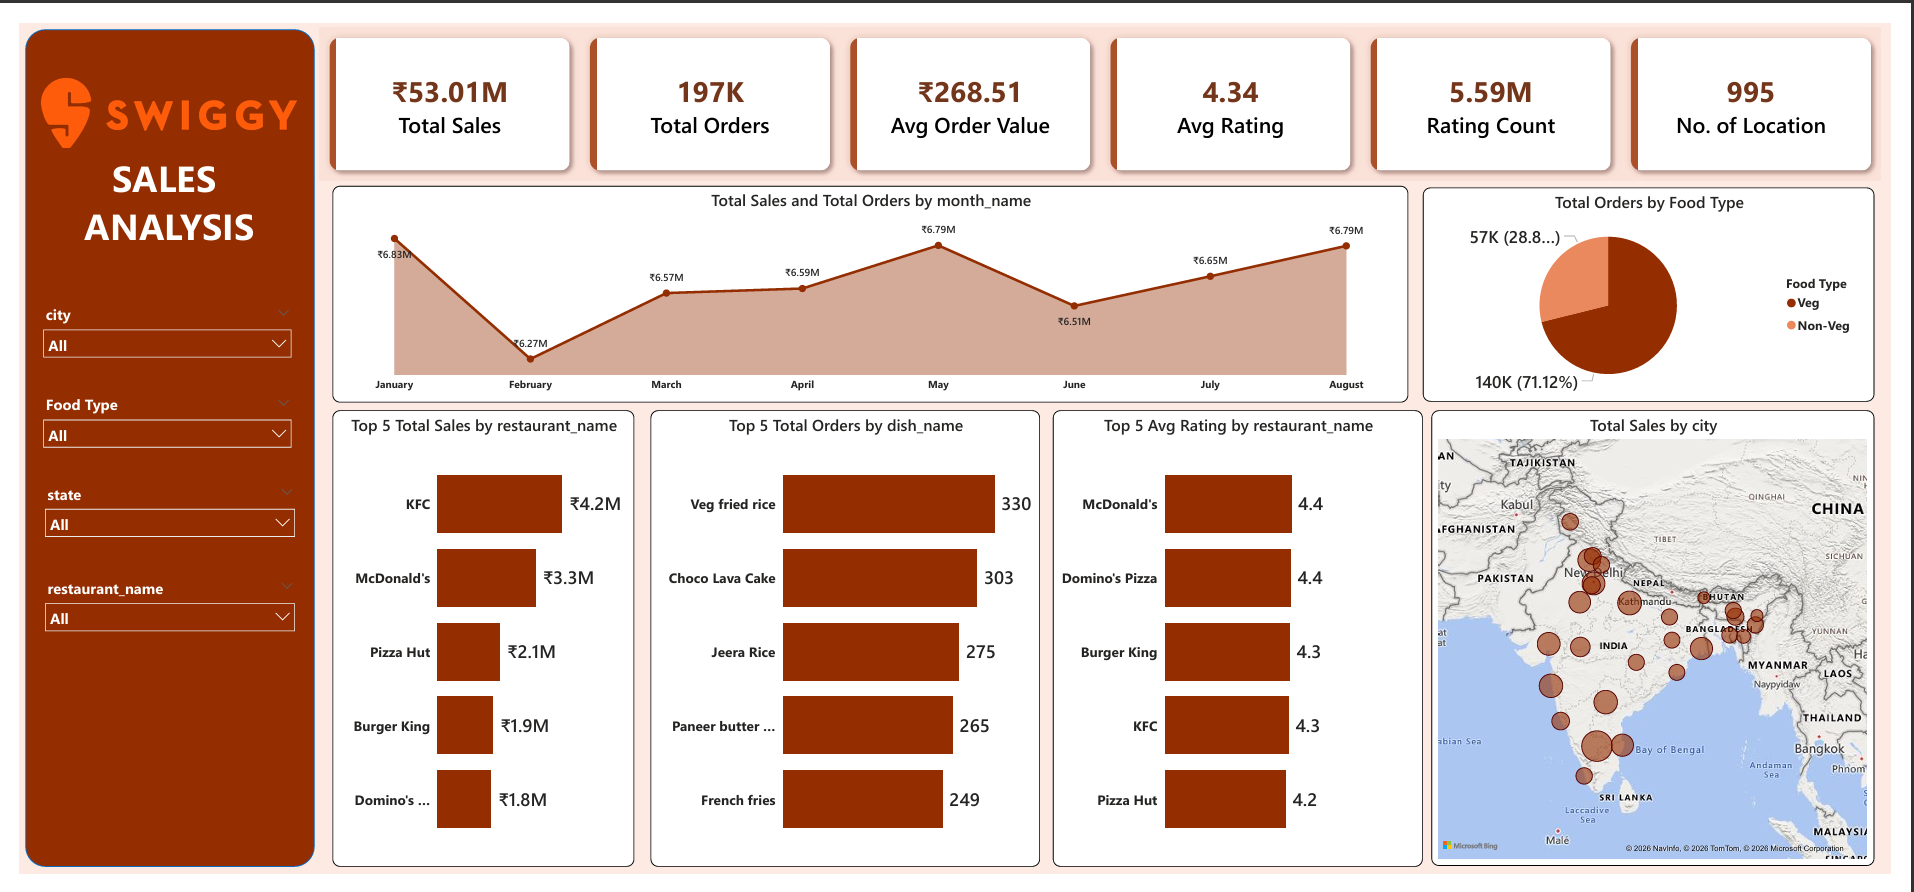

What the dashboard file says about the page in this screenshot:
{"tool":"powerbi","page":{"name":"Page 1","canvas":[2200,1000],"ordinal":0},"visuals":[{"type":"cardVisual","fields":{"Data":["fact_orders.Total Sales","fact_orders.Total Orders","fact_orders.Avg Order Value","fact_orders.Avg Rating","fact_orders.Rating Count","fact_orders.No. of Location"]},"box":[347.7,0,1851.8,190],"z":0},{"type":"shape","box":[6.9,6.9,340.5,984.7],"z":1000},{"type":"image","box":[20.7,6.9,310.6,202.5],"z":2000},{"type":"textbox","box":[20.7,147.2,310.6,128.8],"z":3000},{"type":"lineChart","fields":{"Category":["dim_date.month_name"],"Y":["fact_orders.Total Sales"]},"box":[368.4,190.9,1265,255.2],"z":4000},{"type":"pieChart","fields":{"Category":["dim_dish.Food Type"],"Y":["fact_orders.Total Orders"]},"box":[1650,192.6,530.9,252.4],"z":5000},{"type":"clusteredBarChart","title":"Top 5 Total Sales by restaurant_name","fields":{"Category":["dim_restaurant.restaurant_name"],"Y":["fact_orders.Total Sales"]},"box":[368.4,454.9,355.1,537.1],"z":6000},{"type":"map","title":"Total Sales  by city","fields":{"Category":["dim_location.city"],"Size":["fact_orders.Total Sales"]},"box":[1659.7,454.9,521.6,535.7],"z":7000},{"type":"clusteredBarChart","title":"Top 5 Total Orders by dish_name","fields":{"Category":["dim_dish.dish_name"],"Y":["fact_orders.Total Orders"]},"box":[741.7,455.4,458,536.1],"z":8000},{"type":"slicer","fields":{"Values":["dim_location.city"]},"box":[18.2,325.5,311.3,91],"z":9000},{"type":"slicer","fields":{"Values":["dim_dish.Food Type"]},"box":[18.2,430.6,311.3,91],"z":9001},{"type":"slicer","fields":{"Values":["dim_location.state"]},"box":[20.2,535.7,313.3,91],"z":9002},{"type":"slicer","fields":{"Values":["dim_restaurant.restaurant_name"]},"box":[20.2,646.9,313.3,93],"z":9003},{"type":"clusteredBarChart","title":"Top 5 Avg Rating by restaurant_name","fields":{"Category":["dim_restaurant.restaurant_name"],"Y":["fact_orders.Avg Rating"]},"box":[1215.4,455.4,434.6,536.1],"z":9004}]}

Visuals, with their boxes in screenshot pixels (x1, y1, x2, y2), scaled from the page's 2200x1000 canvas onto the 1914x892 screenshot:
cardVisual - fact_orders.Total Sales x fact_orders.Total Orders: 302, 0, 1913, 169
shape: 6, 6, 302, 885
image: 18, 6, 288, 187
textbox: 18, 131, 288, 246
lineChart - dim_date.month_name x fact_orders.Total Sales: 321, 170, 1421, 398
pieChart - dim_dish.Food Type x fact_orders.Total Orders: 1436, 172, 1897, 397
"Top 5 Total Sales by restaurant_name" clusteredBarChart: 321, 406, 629, 885
"Total Sales  by city" map: 1444, 406, 1898, 884
"Top 5 Total Orders by dish_name" clusteredBarChart: 645, 406, 1044, 884
slicer - dim_location.city: 16, 290, 287, 372
slicer - dim_dish.Food Type: 16, 384, 287, 465
slicer - dim_location.state: 18, 478, 290, 559
slicer - dim_restaurant.restaurant_name: 18, 577, 290, 660
"Top 5 Avg Rating by restaurant_name" clusteredBarChart: 1057, 406, 1436, 884
